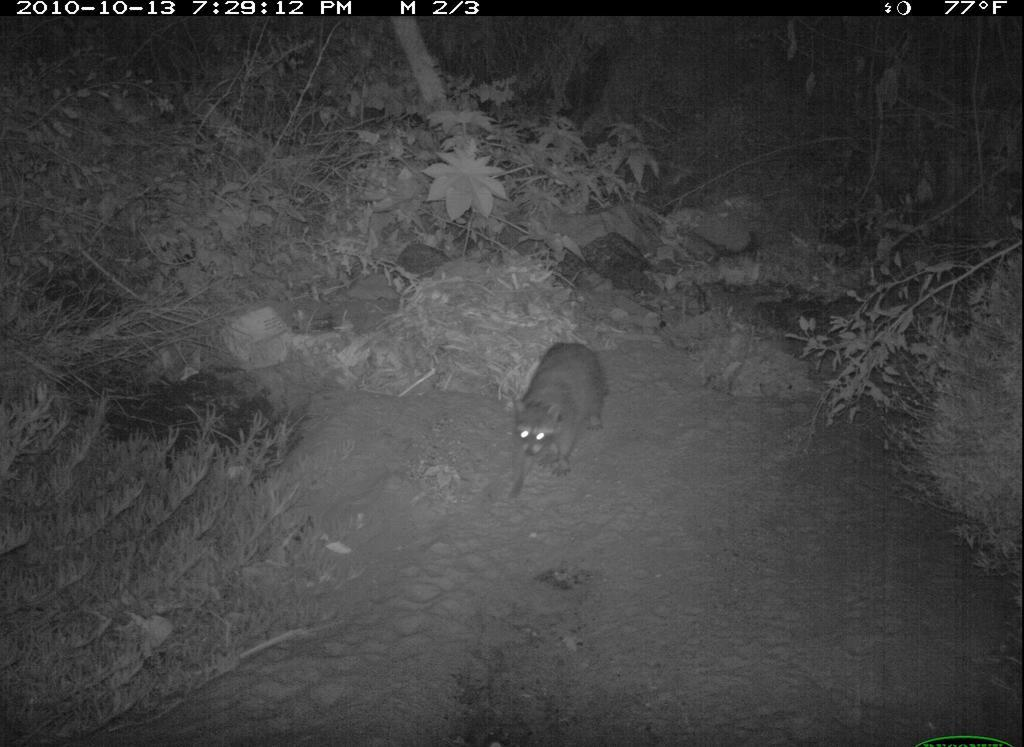raccoon: (475, 336, 625, 521)
